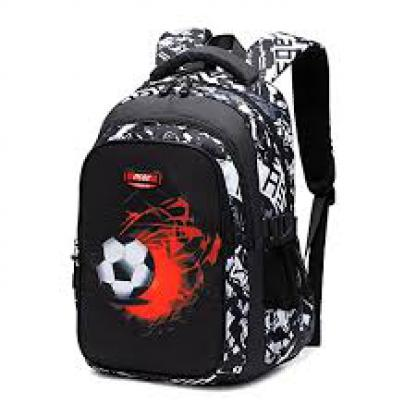morral: (61, 7, 357, 392)
